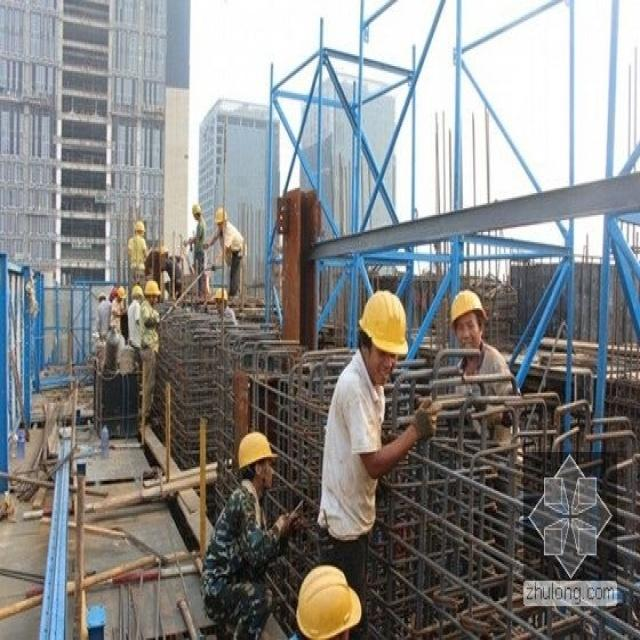helmet: (358, 387, 408, 508), (449, 378, 484, 470), (235, 569, 276, 640), (213, 382, 229, 418), (143, 371, 159, 406), (213, 275, 228, 308), (131, 377, 142, 404), (133, 295, 146, 317), (192, 271, 203, 296), (116, 377, 126, 404)
